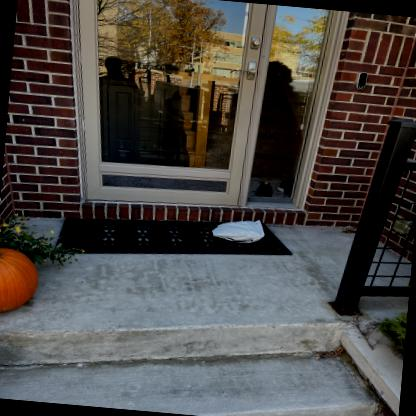plastic_bag: (211, 219, 264, 244)
